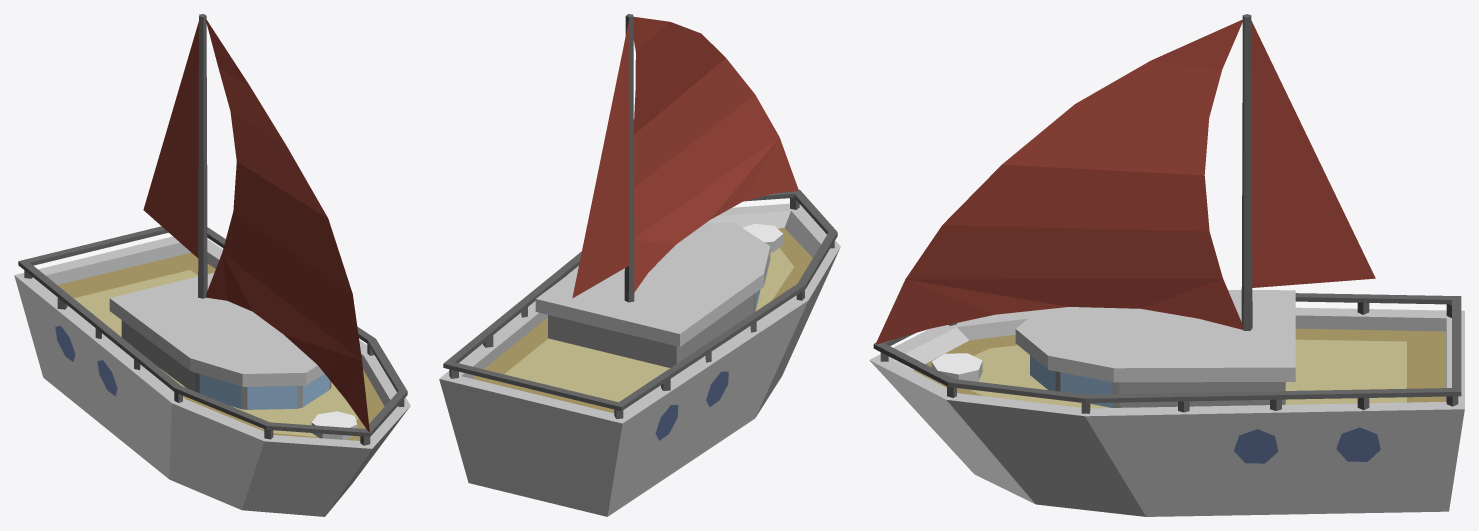
Rendered from transport_water_010.fbx.
3 views of the same model, side by side, from view 1: azimuth 30°, elevation 25°; view 2: azimuth 150°, elevation 25°; view 3: azimuth 270°, elevation 25° (orthographic). The views are drawn at different scales.
Parts seen in each view (by area): view 1: transport_water_010; view 2: transport_water_010; view 3: transport_water_010.
Part boxes in pixels (<box>): transport_water_010: <box>14,14,410,516</box>; transport_water_010: <box>439,14,840,516</box>; transport_water_010: <box>869,14,1464,516</box>.
Bounding box in the file's own units: 400 × 761 × 896.
